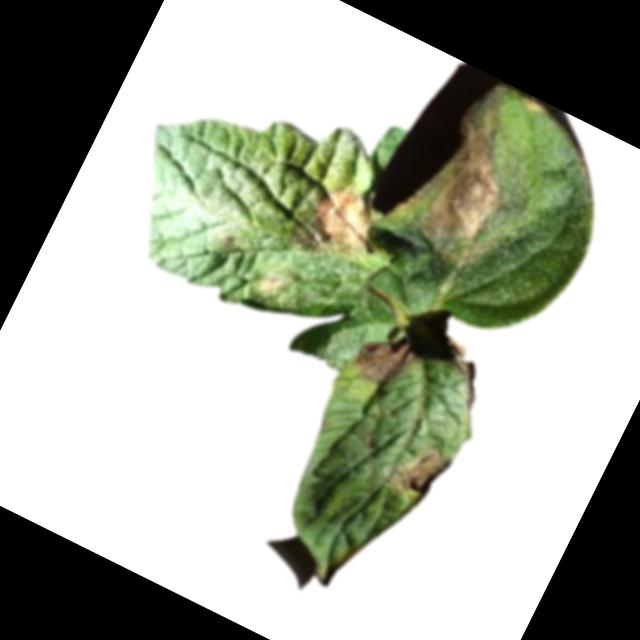Late_blight: (414, 121, 529, 261), (299, 175, 390, 269), (383, 434, 454, 509), (428, 338, 496, 411), (351, 323, 420, 393), (253, 266, 287, 299)
